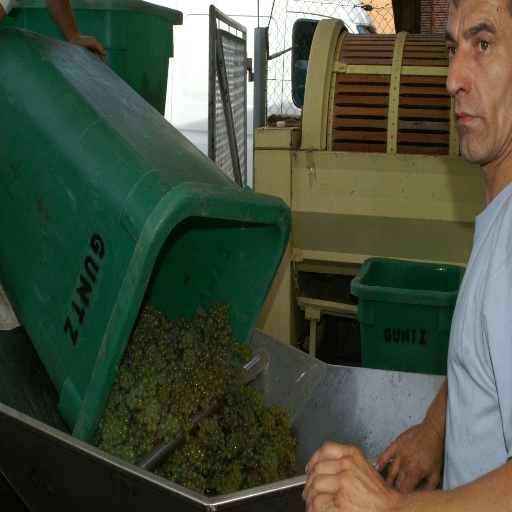hand: (311, 442, 402, 512), (373, 421, 442, 492), (68, 32, 107, 64)
